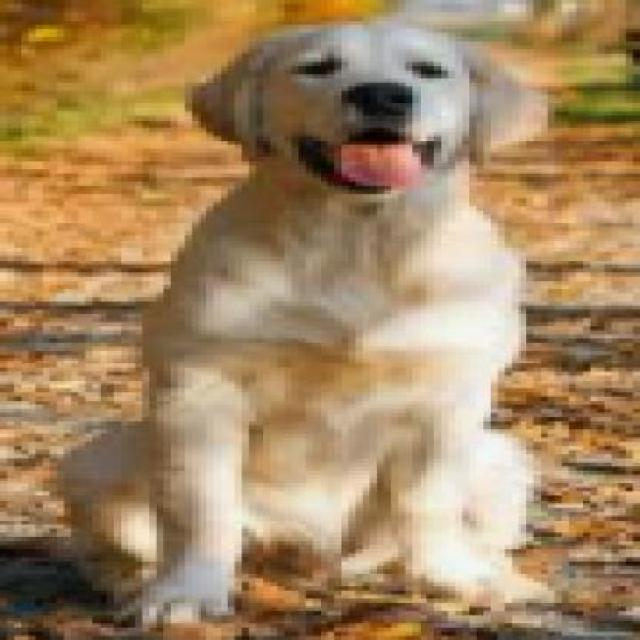Dog: (49, 17, 560, 629)
